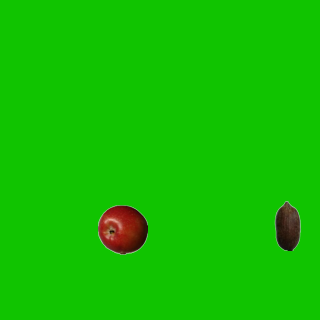Apple Braeburn: (97, 204, 147, 254)
Nut Pecan: (262, 200, 312, 250)
